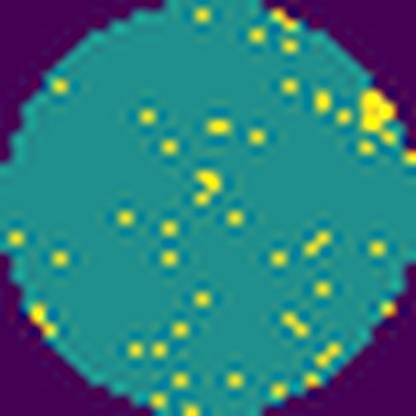Edge-Loc: (359, 85, 400, 131)
